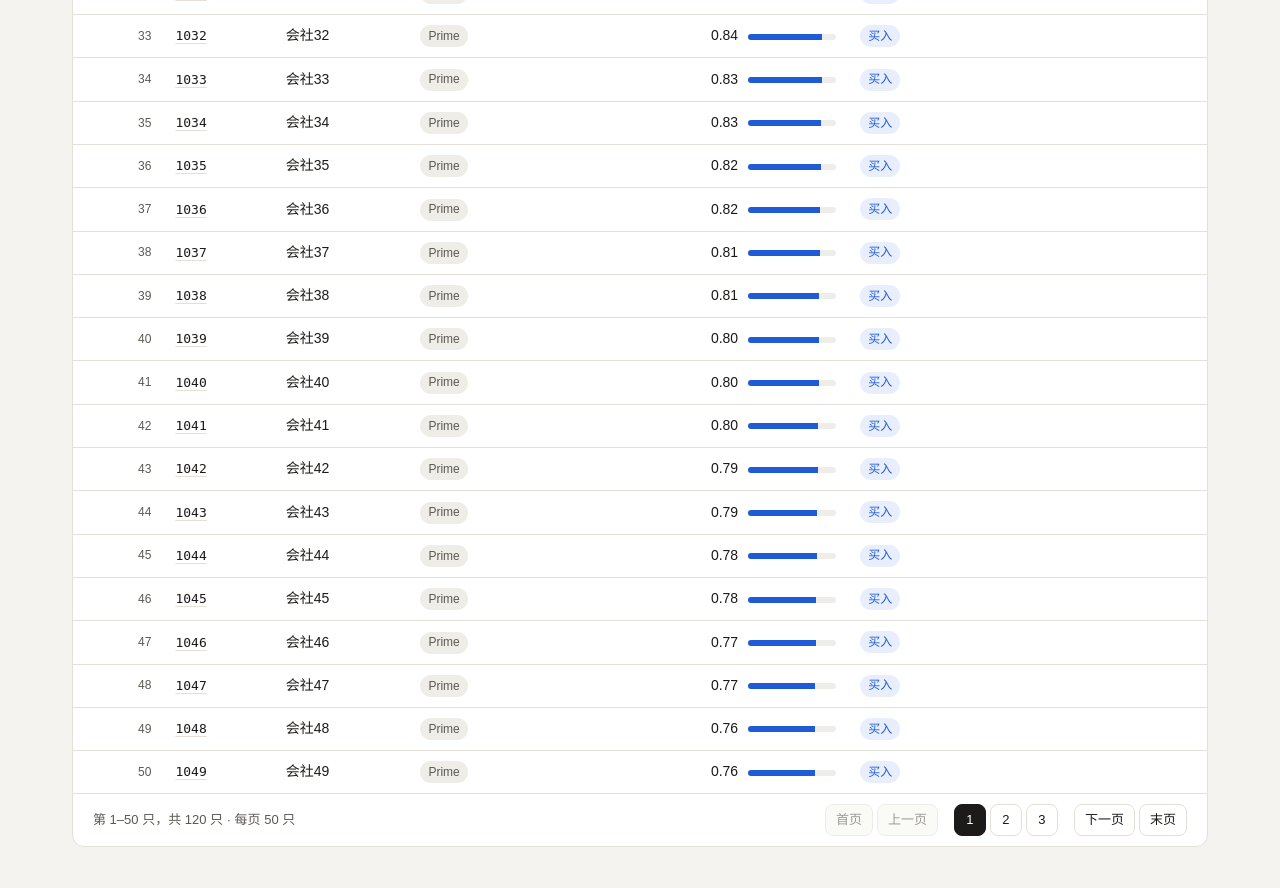
Scenario: 信号页 › 候选多于 50 只时分页，序号接着上一页
(page scrolled)
expect the text "第 1–50 只，共 120 只 · 每页 50 只" is shown: met, box [93, 810, 295, 830]
What coordinates should you click on to do the following:
click the button "末页"
I would click on:
 (1163, 820)
Its box is [1139, 804, 1187, 836].
(page scrolled)
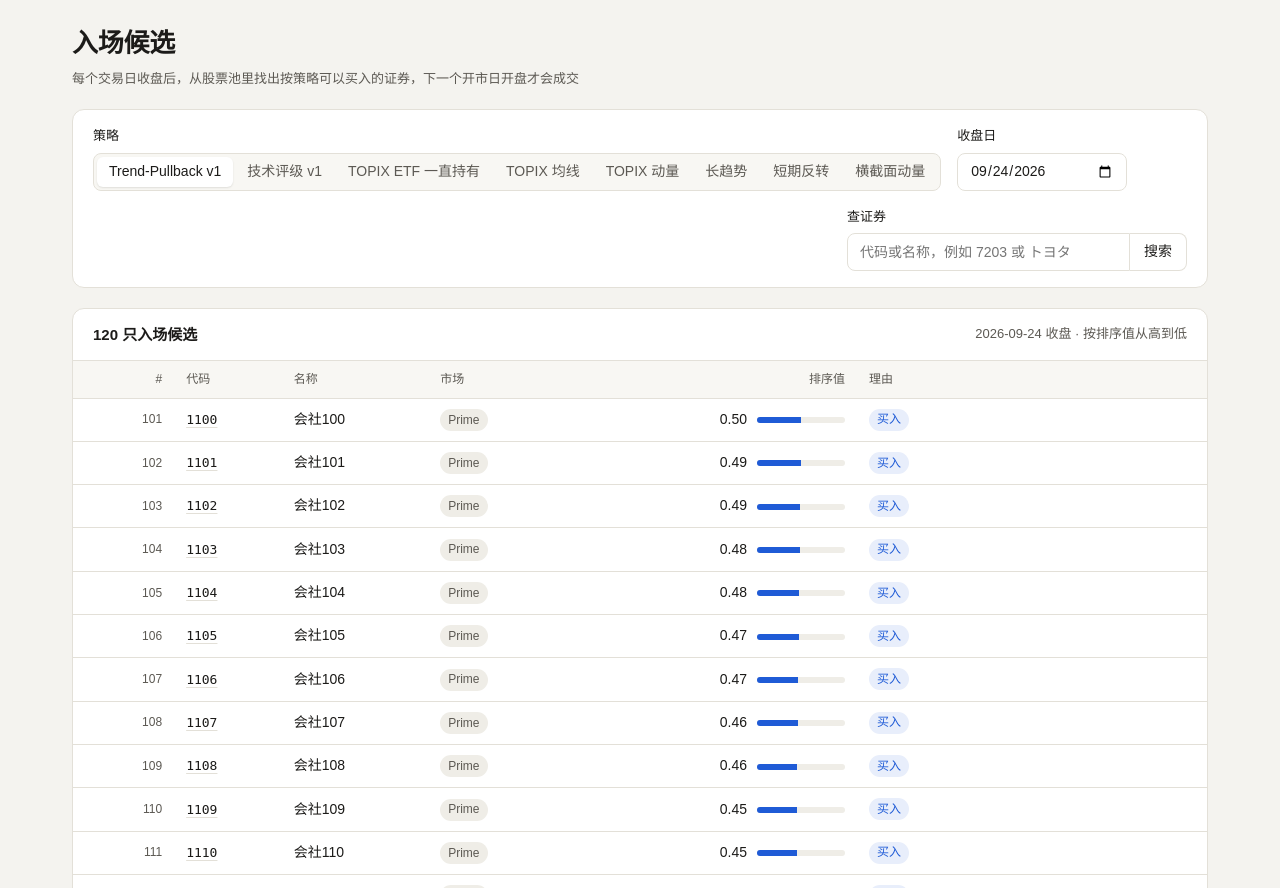
expect the text "101" is shown: met, box [73, 398, 174, 441]
expect the number of rows is 21: met
expect the text "会社100" is shown: met, box [282, 398, 428, 441]
